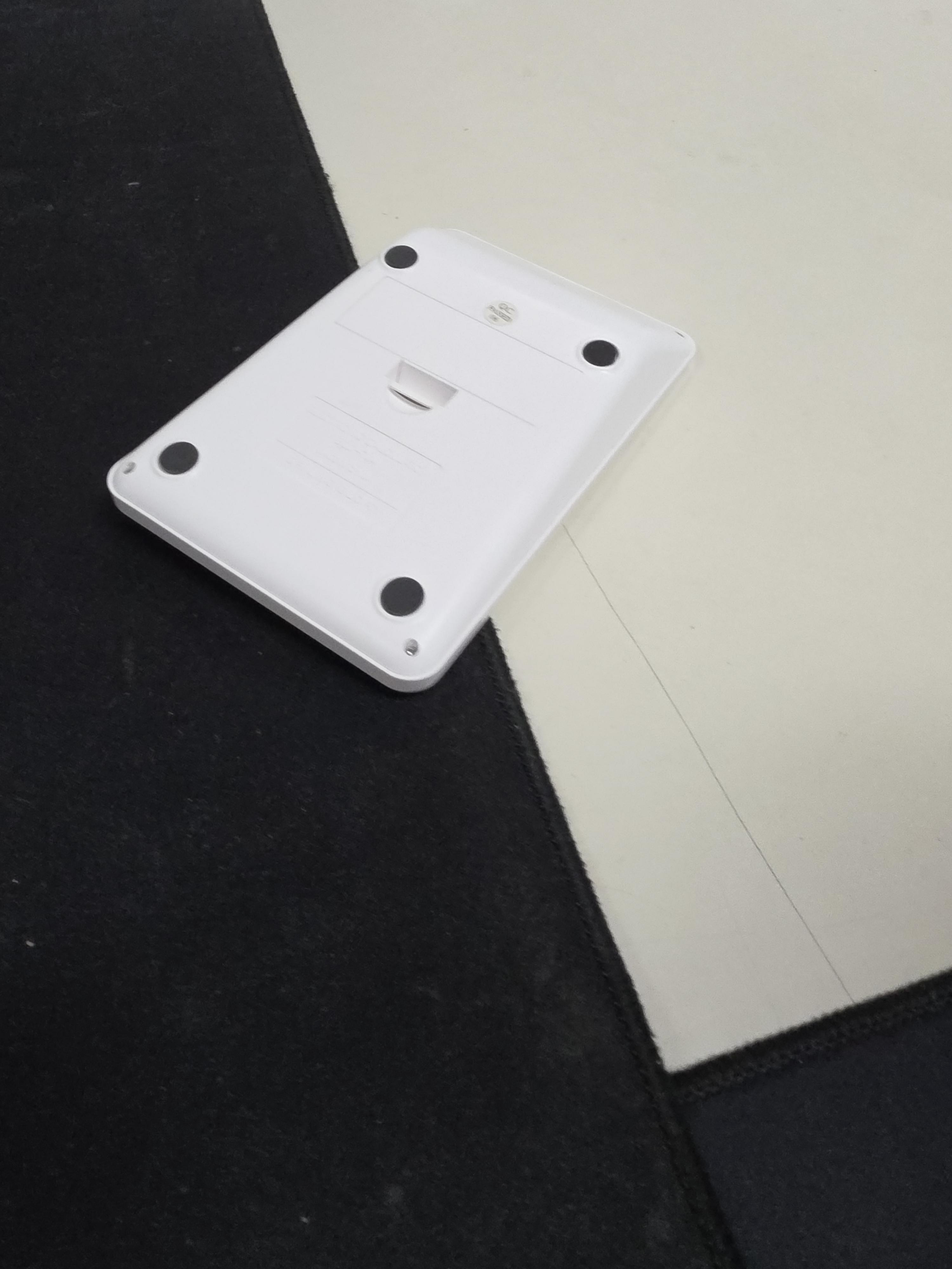calculator: (106, 227, 697, 694)
